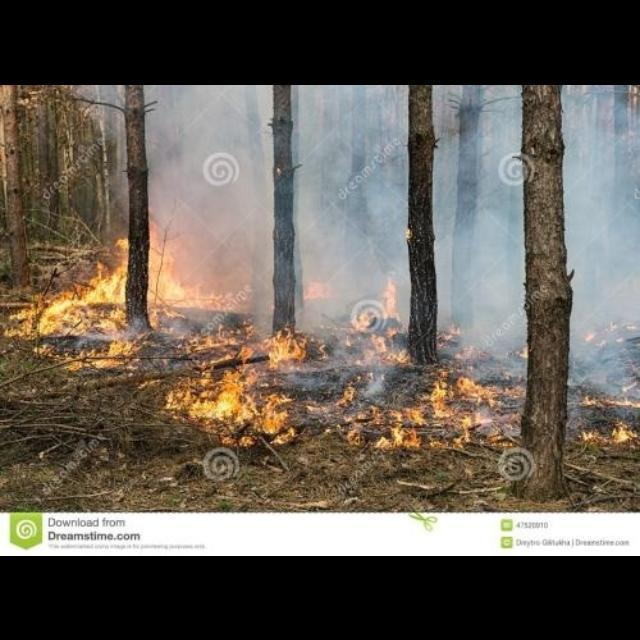Fire: (4, 219, 528, 449), (574, 378, 640, 408), (580, 418, 640, 442)
Smoke: (210, 85, 522, 317), (560, 86, 640, 434), (96, 90, 211, 218)
